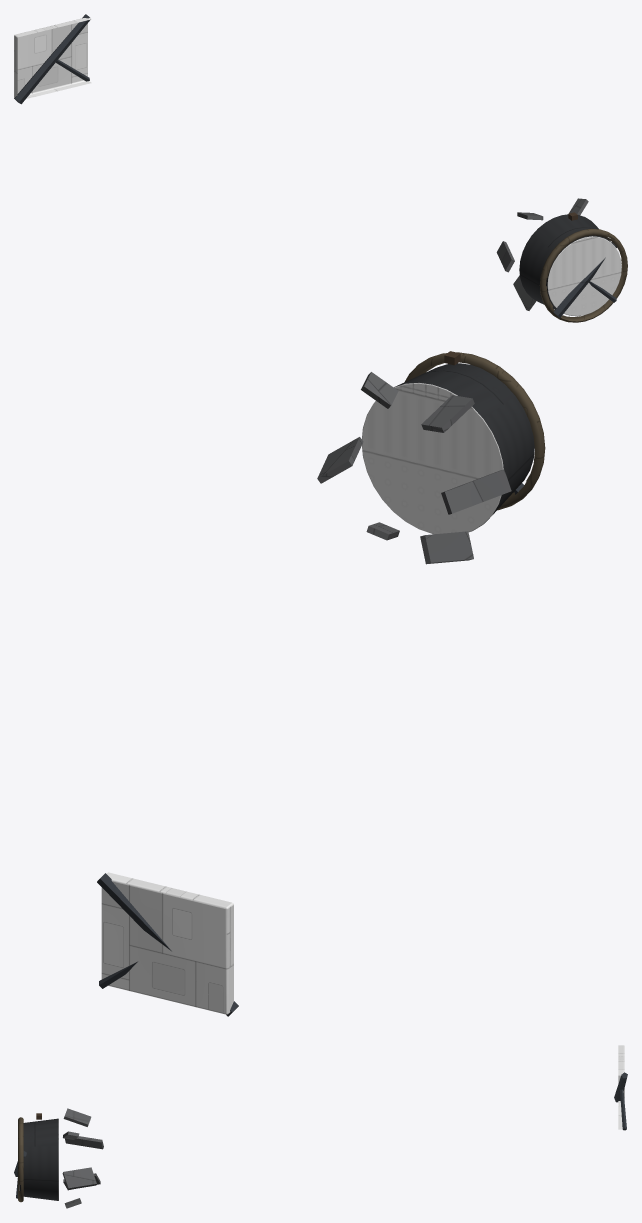
Rendered from aft_dock_collar.glb.
The picture shows the model from 3 angles, top to bottom: view 1: azimuth 30°, elevation 25°; view 2: azimuth 150°, elevation 25°; view 3: azimuth 270°, elevation 25°; orthographic projection. The views are drawn at different scales.
Parts seen in each view (by area): view 1: DockCollar, ServiceHatch, DockRing, ServiceHatch_xrib1a, DockRing_xrib1a; view 2: DockCollar, ServiceHatch, DockRing, collarCut_tear0, collarCut_tear5, collarCut_tear1, collarCut_tear3, ServiceHatch_xrib1a; view 3: DockCollar, collarCut_tear3, DockRing, ServiceHatch, collarCut_tear0, collarCut_tear1.
Part boxes in pixels (x1,y1,x2,y2): DockCollar: (519,214,621,316); ServiceHatch: (14,18,91,98); DockRing: (539,228,627,322); ServiceHatch_xrib1a: (14,14,90,104); DockRing_xrib1a: (553,242,616,317); DockCollar: (362,363,534,534); ServiceHatch: (101,872,233,1014); DockRing: (404,352,545,510); collarCut_tear0: (441,469,511,514); collarCut_tear5: (420,531,473,564); collarCut_tear1: (421,395,474,432); collarCut_tear3: (317,437,363,483); ServiceHatch_xrib1a: (97,873,238,1016); DockCollar: (19,1118,58,1200); collarCut_tear3: (62,1167,96,1189); DockRing: (18,1117,23,1202); ServiceHatch: (618,1045,624,1129); collarCut_tear0: (65,1136,103,1149); collarCut_tear1: (63,1108,91,1126).
Size of the model in its own units: 6.92 by 2.5 by 16.
Materials: 7 (6 with a texture image).
